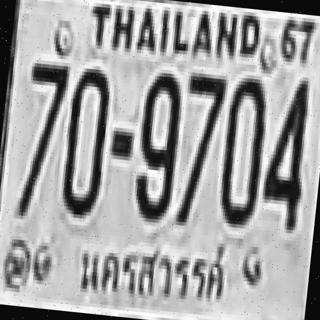N00: (58, 64, 111, 216), (216, 73, 268, 226)
N04: (260, 76, 310, 228)
N07: (15, 59, 68, 215), (174, 68, 225, 224), (20, 61, 68, 168)
N09: (130, 68, 183, 220)
